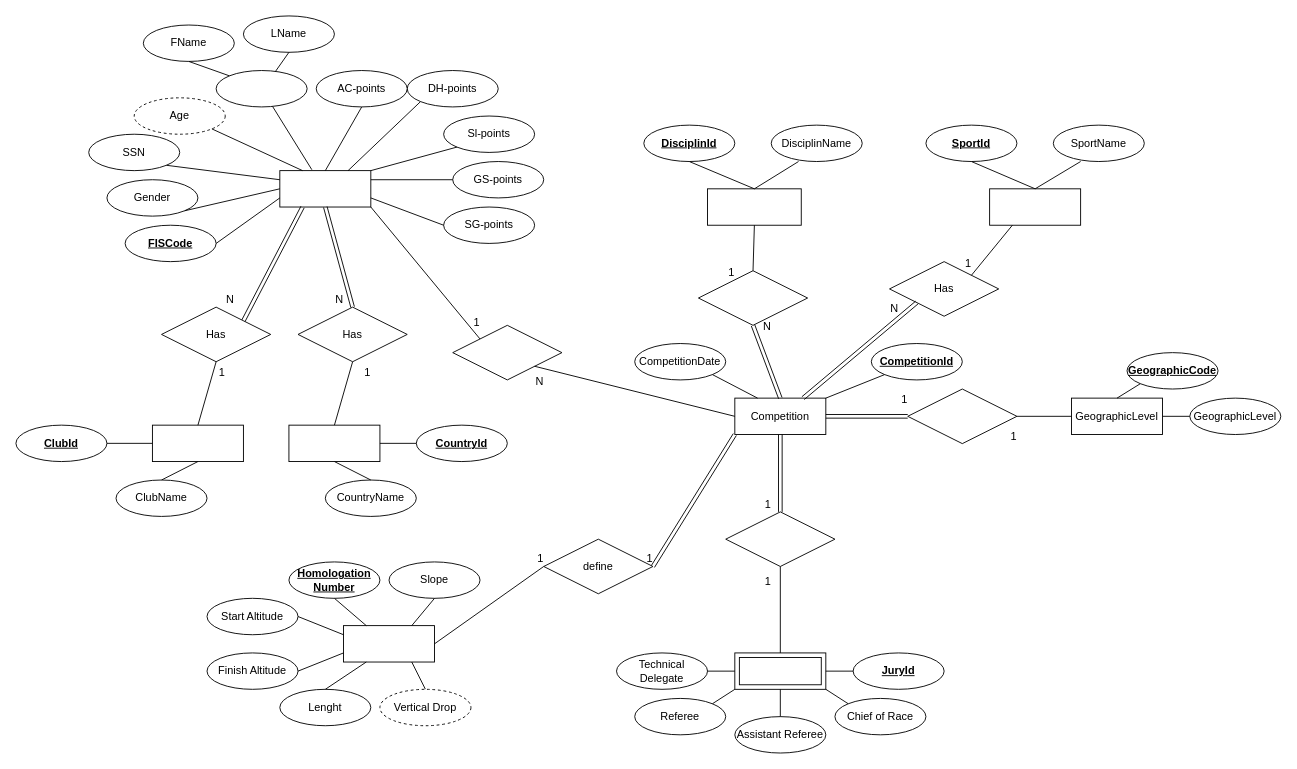
This 1297x769 diagram has some shape labels left out. Each missing label, with the centre of its shape:
"Are_of" belongs at pixel 753 297.
"Athlete" belongs at pixel 325 188.
"Club" belongs at pixel 197 443.
"Compete_in" belongs at pixel 507 352.
"Country" belongs at pixel 334 443.
"Disciplin" belongs at pixel 754 206.
"Inspects" belongs at pixel 780 538.
"Jury" belongs at pixel 780 670.
"Name" belongs at pixel 261 88.
"Relationship" belongs at pixel 962 416.
"Sport" belongs at pixel 1035 206.
"Technical Data" belongs at pixel 389 643.
